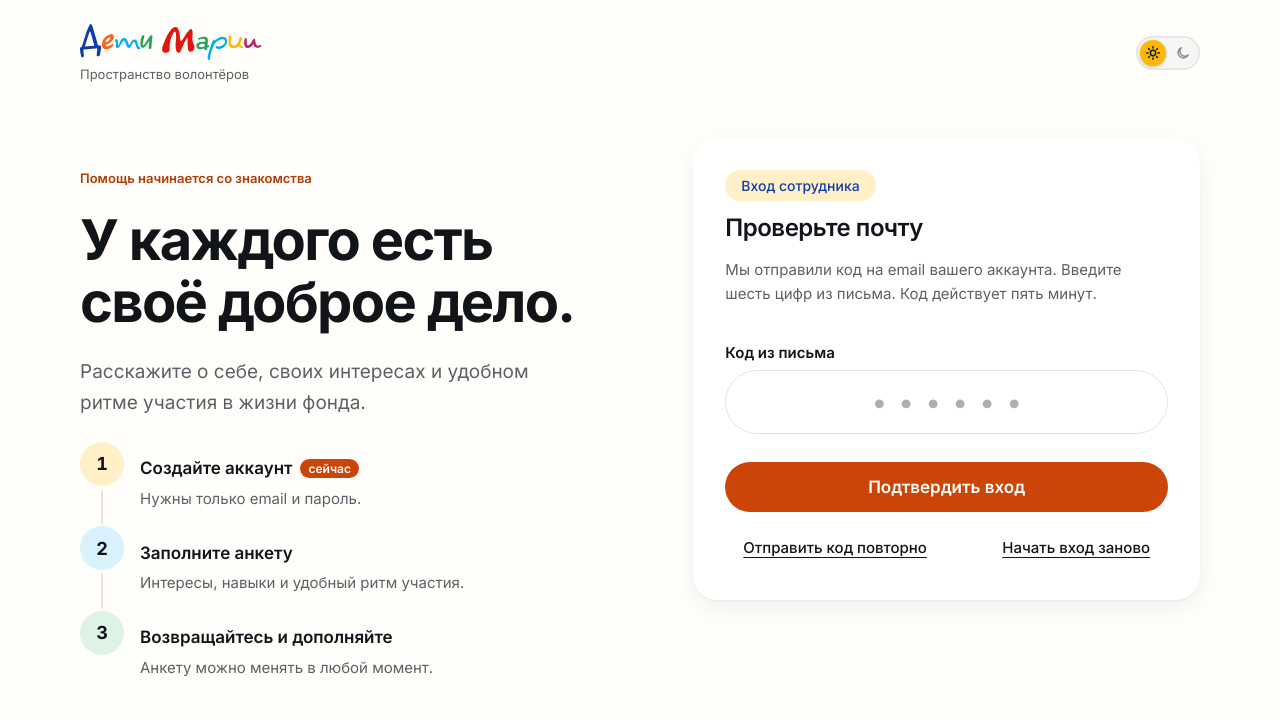
Scenario: staff login and coordinator workspace › restores a pending email step after reload and allows a resend with cooldown
This screenshot has width=1280, height=720.
Expected: the field labelled "Код из письма" is shown, [725,370,1168,434]
Click the button "Отправить код повторно" at coordinates (835, 548), box [725,528,945,568]
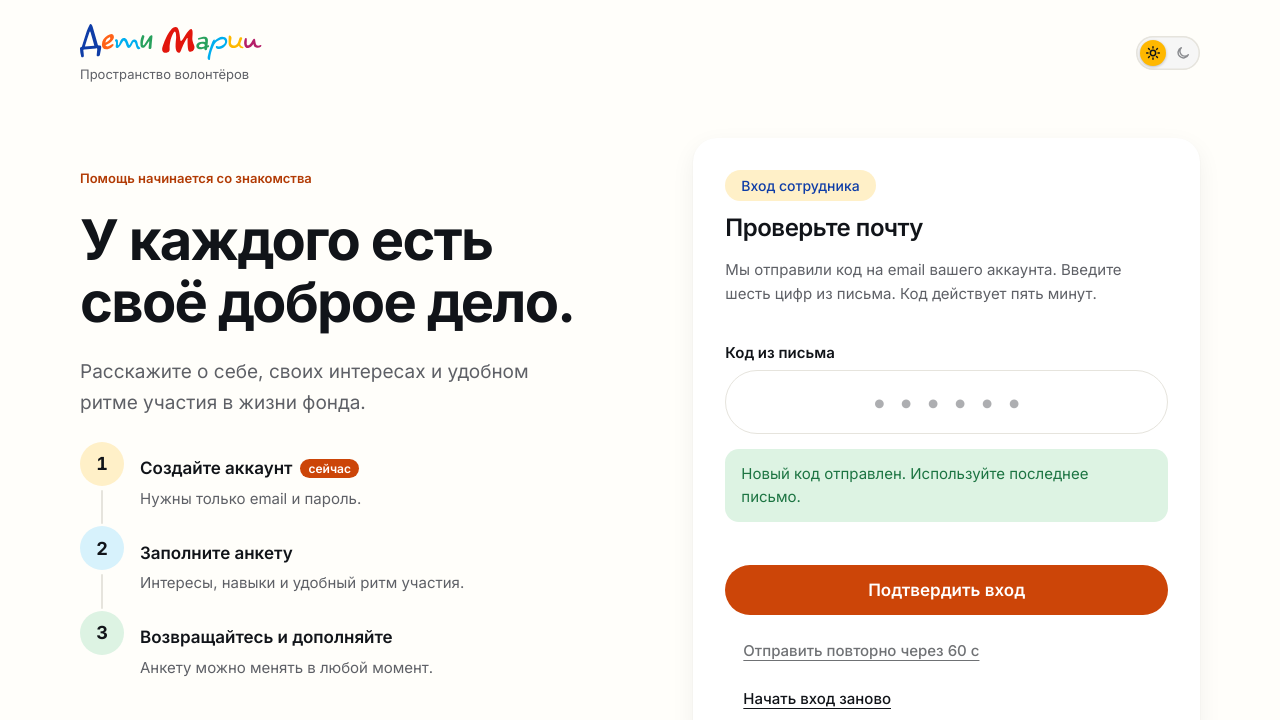
Now the text "Новый код отправлен. Используйте последнее письмо." is shown, box [725,449,1168,522]
Now the button "Отправить повторно через 60 с" is disabled, box [725,631,997,671]
Click the button "Начать вход заново" at coordinates (817, 698), box [725,679,909,718]
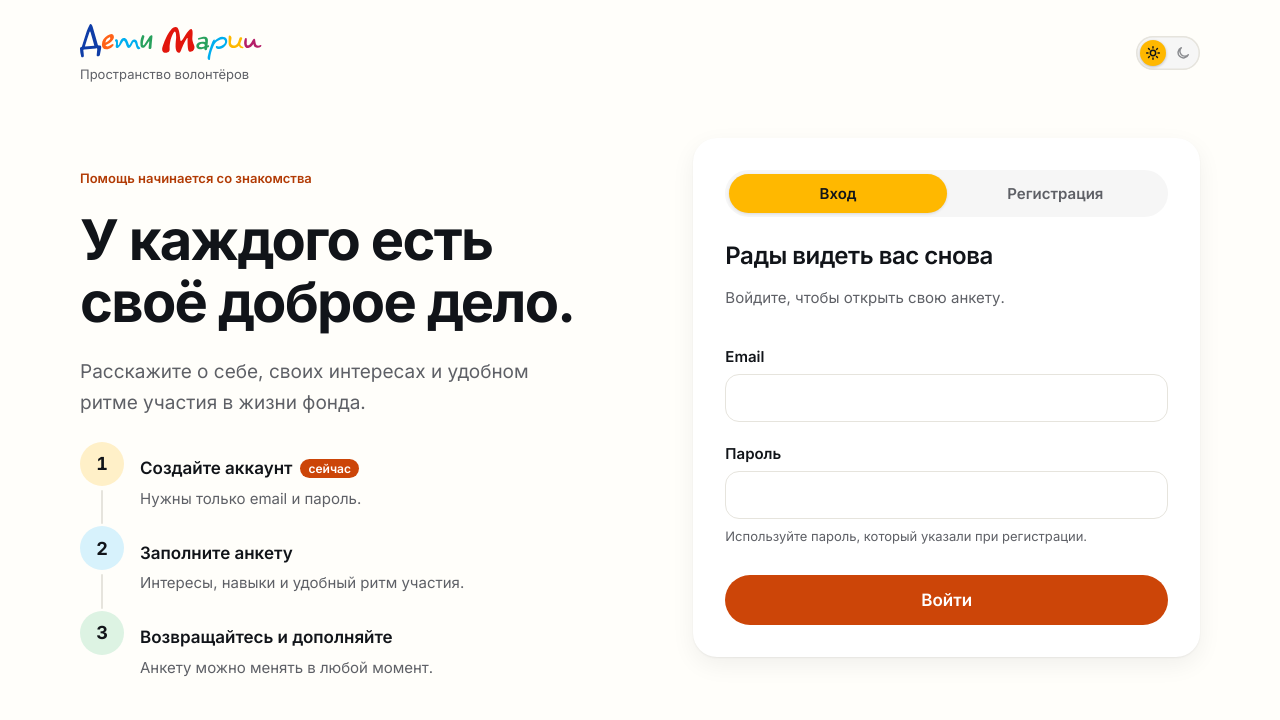
Now the password field labelled "Пароль" is shown, box [725,471,1168,519]
